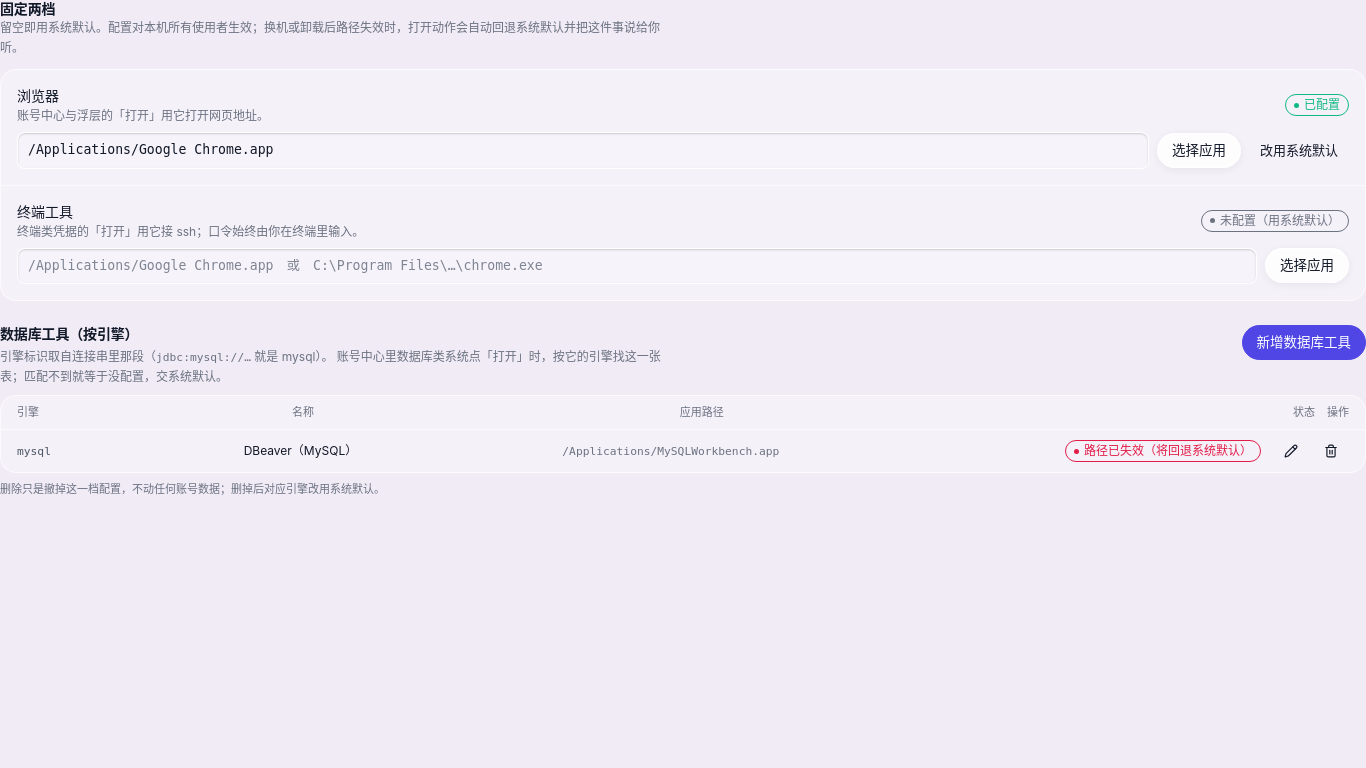
Test: 数据库工具清单 › 引擎、名称、路径缺一样都不许保存（这一档的存在意义就是指向一个应用）
This screenshot has width=1366, height=768.
Check: the field named "浏览器应用路径" is shown, box [17, 132, 1149, 169]
Click the button "新增数据库工具". click: (1304, 342)
box: [1242, 325, 1365, 360]
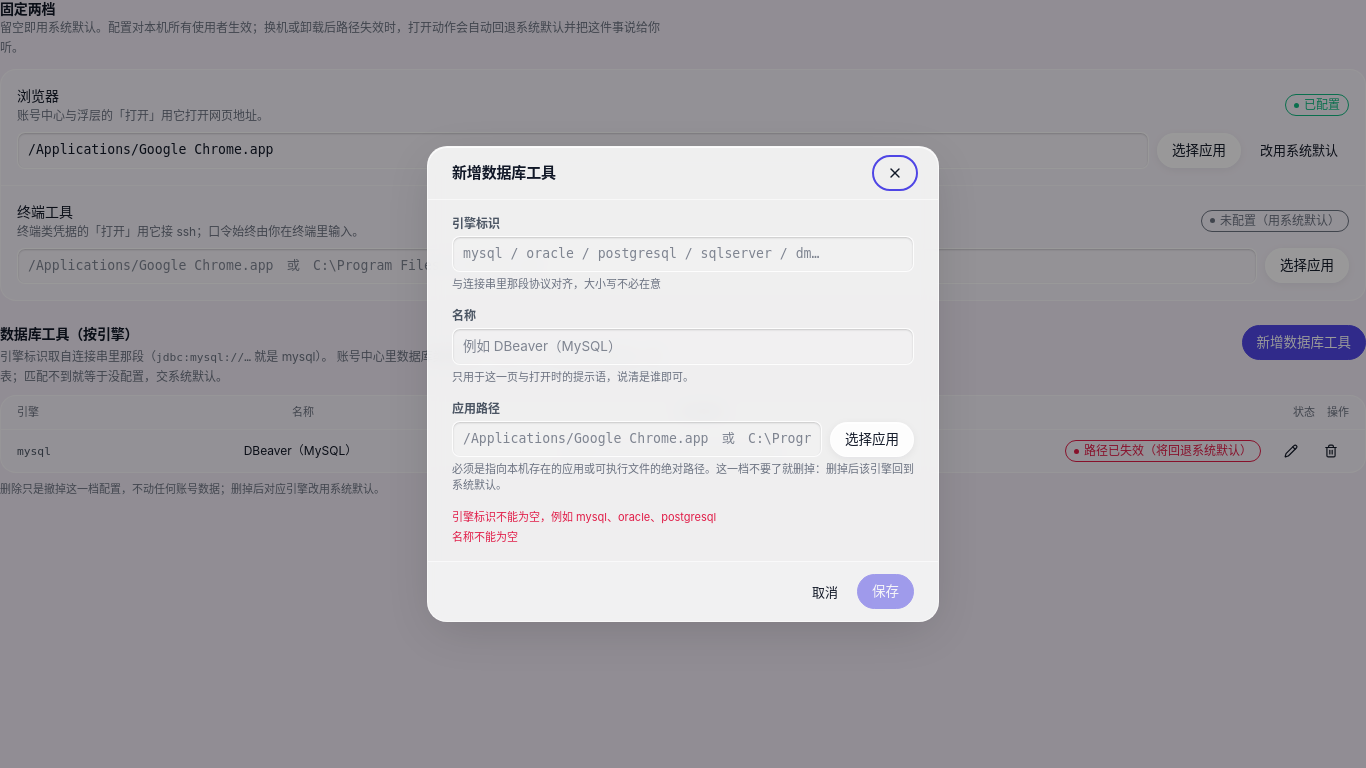
Check: the button "保存" is disabled, box [857, 574, 914, 609]
Type "oracle" into the field with placeholder "mysql / oracle / postgresql / sqlserver / dm…". click: (683, 254)
box: [452, 236, 914, 272]
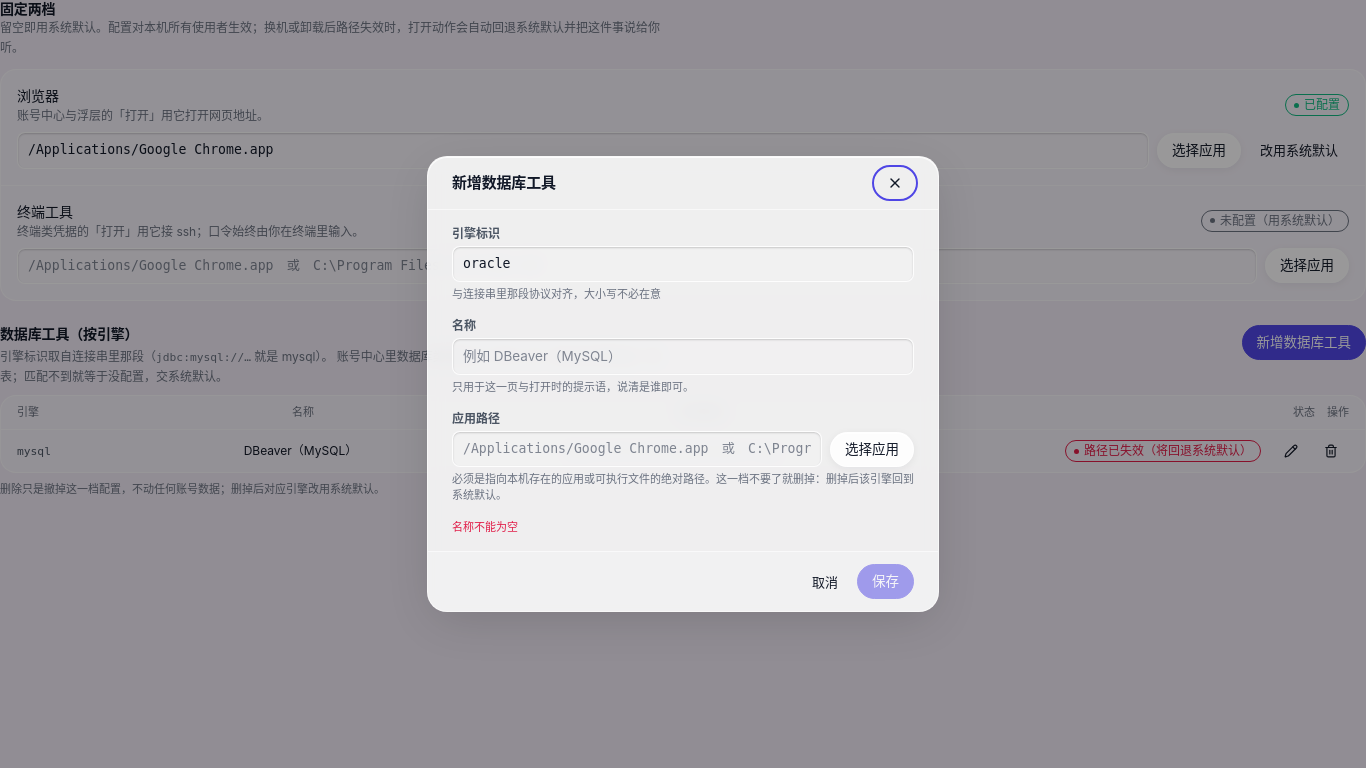
Check: the button "保存" is disabled, box [857, 564, 914, 599]
Type "SQL Developer" into the field with placeholder "例如 DBeaver（MySQL）". click: (683, 357)
box: [452, 338, 914, 375]
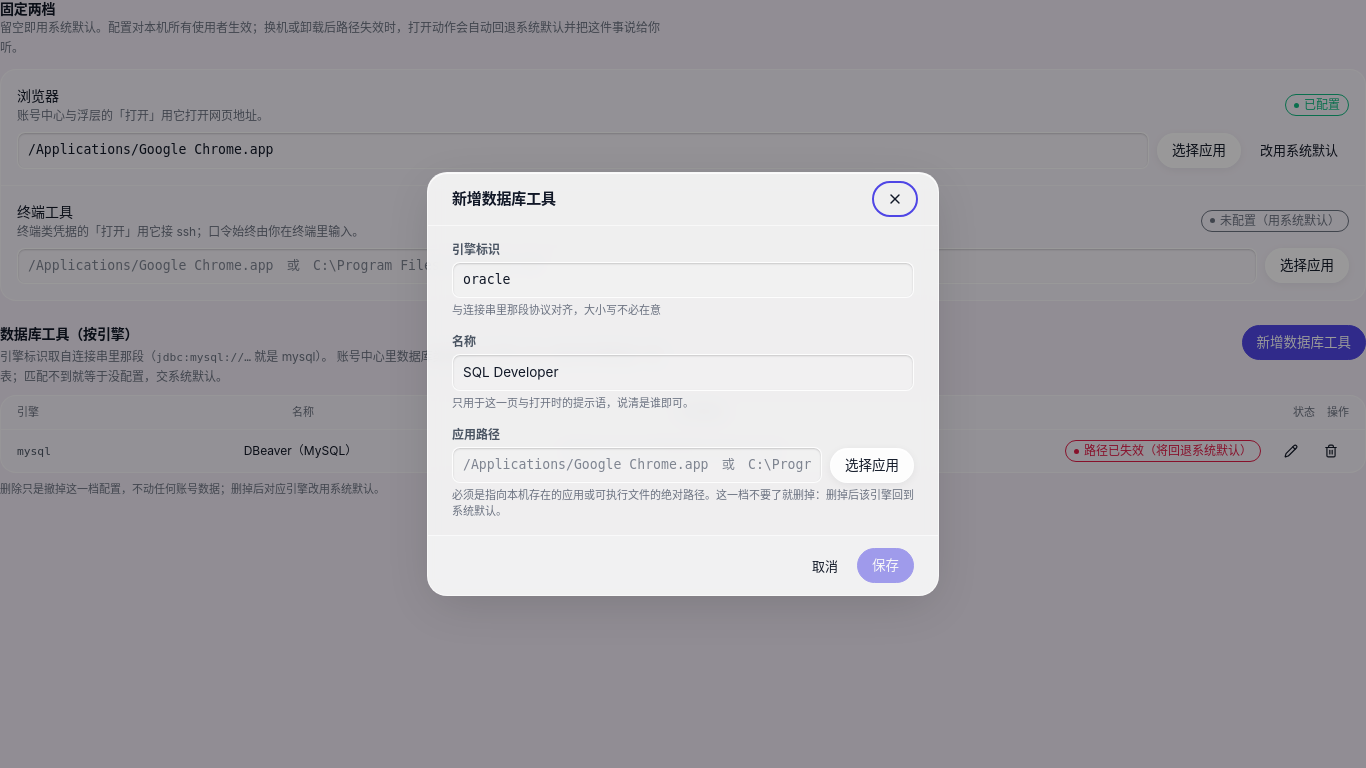
Check: the button "保存" is disabled, box [857, 548, 914, 583]
Replace the text in the field named "应用路径" with "SQLDeveloper". click: (637, 465)
box: [452, 447, 822, 483]
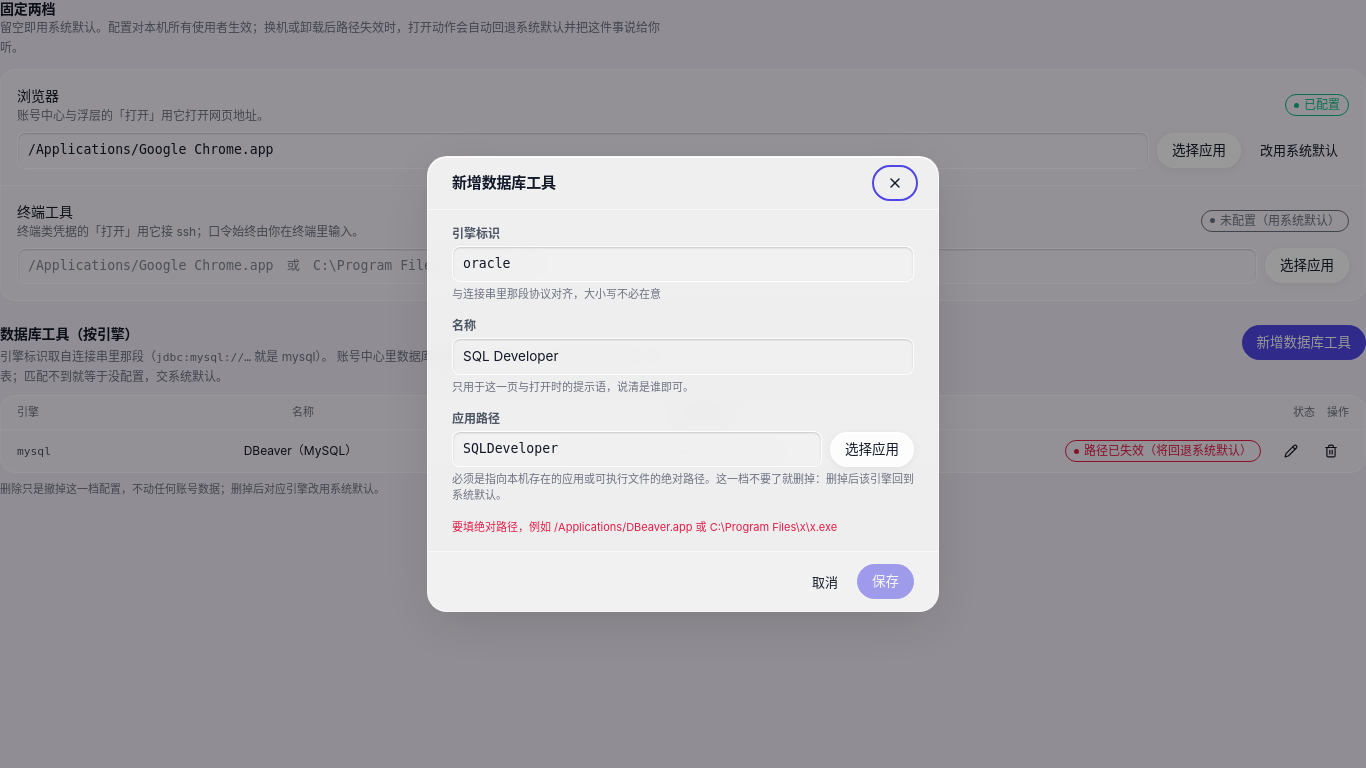
Check: the button "保存" is disabled, box [857, 564, 914, 599]
Replace the text in the field named "应用路径" with "/Applications/SQLDeveloper.app". click: (637, 449)
box: [452, 431, 822, 467]
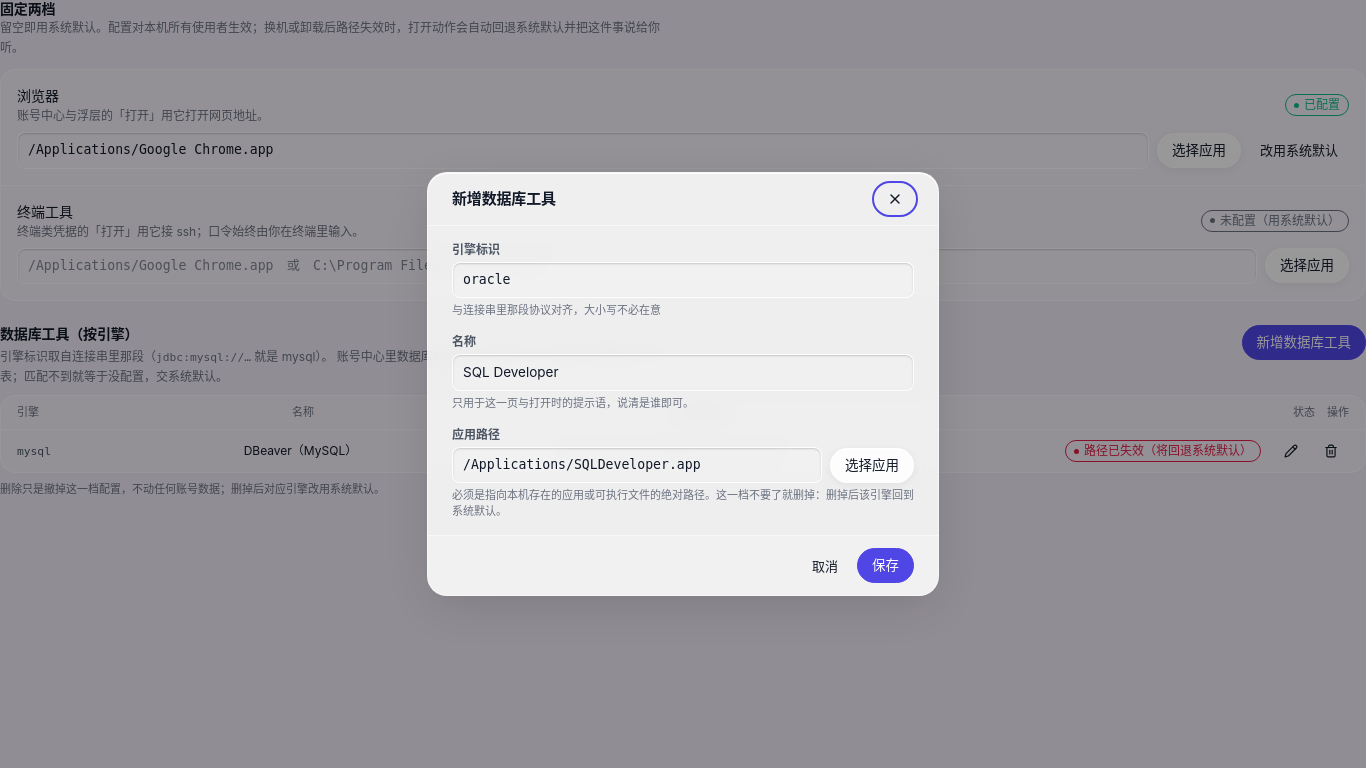
Check: the button "保存" is enabled, box [857, 548, 914, 583]
